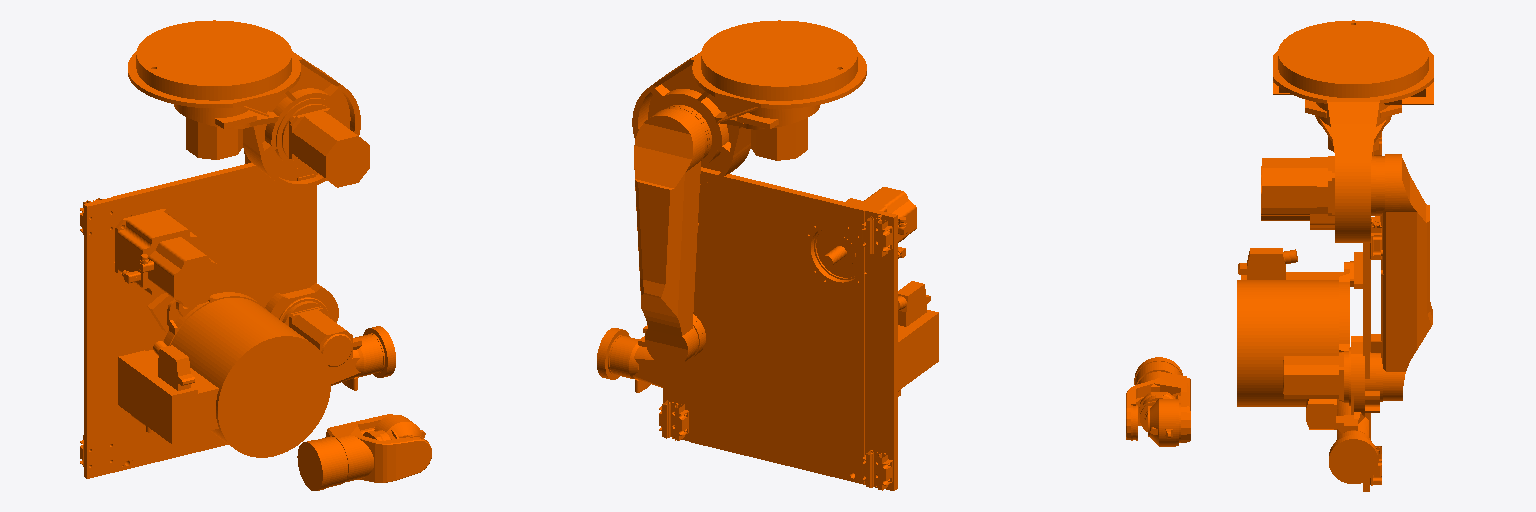
URDF robot description (kuka_kr15):
<?xml version="1.0" ?>
<!--
  URDF: KUKA KR15 — célula robotizada
  Paquete ROS 2: 15dimension_collision

  Meshes reales (unidades originales en mm → ROS 2 usa metros, scale 0.001):
    kr15_1_0.stl  →  base        bbox: 796 × 471 × 901 mm   centroid: (-25, -124, 120)
    kr15_1_1.stl  →  link_1      bbox: 735 × 529 × 490 mm   centroid: (107, -16, 70)
    kr15_1_2.stl  →  link_2      bbox: 827 × 199 × 246 mm   centroid: (314, 0, -123)
    kr15_1_3.stl  →  link_3      bbox: 374 × 592 × 298 mm   centroid: (53, -11, 69)
    kr15_1_4.stl  →  link_4      bbox: 152 × 200 × 376 mm   centroid: (0, 2, 127)
    kr15_1_5.stl  →  link_5      bbox: 148 × 203 × 127 mm   centroid: (0, 1, 2)
    kr15_1_6.stl  →  link_6      bbox: 118 × 118 × 37 mm    centroid: (0, 0, 18)

  Parámetros DH originales (C# NXOpen):
    alpha = [0,    0,     π/2,   0,     π/2,   π/2,  -π/2]
    a     = [0,    0,     300,   650,   155,   0,     0   ]  mm
    d     = [0,    0,     675,   0,     0,     600,   0   ]  mm
    theta = [0,    0,     π/2,   0,     0,     0,     0   ]  offset

  Colisión: primitivas geométricas ajustadas a los bounding boxes reales
-->
<robot name="kuka_kr15">

  <!-- ================================================================
       WORLD — frame de referencia fijo
       ================================================================ -->
  <link name="world" />

  <joint name="world_to_base" type="fixed">
    <parent link="world" />
    <child link="base_link" />
    <origin xyz="0 0 0" rpy="0 0 0" />
  </joint>


  <!-- ================================================================
       BASE LINK
       STL bbox: 796 × 471 × 901 mm  (el volumen incluye el link_1 en posición home)
       Colisión conservadora: caja 500 × 400 × 200 mm (solo la parte fija)
       ================================================================ -->
  <link name="base_link">

    <visual>
      <origin xyz="0 0 0" rpy="0 0 0" />
      <geometry>
        <mesh
                    filename="package://15dimension_collision/meshes/kr15_1_0.stl"
                    scale="0.001 0.001 0.001"
                />
      </geometry>
      <material name="kuka_orange">
        <color rgba="1.0 0.45 0.0 1.0" />
      </material>
    </visual>

    <collision>
      <origin xyz="-0.025 -0.124 0.10" rpy="0 0 0" />
      <geometry>
        <box size="0.50 0.40 0.20" />
      </geometry>
    </collision>

    <inertial>
      <mass value="50.0" />
      <origin xyz="0 0 0.10" rpy="0 0 0" />
      <inertia ixx="0.8" iyy="0.8" izz="0.6" ixy="0.0" ixz="0.0" iyz="0.0" />
    </inertial>

  </link>


  <!-- ================================================================
       JOINT 1 — Rotación Z
       d = 675 mm = 0.675 m
       ================================================================ -->
  <joint name="joint_1" type="revolute">
    <parent link="base_link" />
    <child link="link_1" />
    <origin xyz="0 0 0.675" rpy="0 0 0" />
    <axis xyz="0 0 1" />
    <limit lower="-3.14159" upper="3.14159" effort="200" velocity="1.745" />
    <dynamics damping="0.5" friction="0.1" />
  </joint>


  <!-- ================================================================
       LINK 1 — Columna giratoria
       STL bbox: 735 × 529 × 490 mm  centroid: (107, -16, 70)
       Colisión: cilindro Ø300mm × 490mm centrado en el centroide
       ================================================================ -->
  <link name="link_1">

    <visual>
      <origin xyz="0 0 0" rpy="0 0 0" />
      <geometry>
        <mesh
                    filename="package://15dimension_collision/meshes/kr15_1_1.stl"
                    scale="0.001 0.001 0.001"
                />
      </geometry>
      <material name="kuka_orange" />
    </visual>

    <collision>
      <origin xyz="0.107 -0.016 0.07" rpy="0 0 0" />
      <geometry>
        <cylinder radius="0.15" length="0.49" />
      </geometry>
    </collision>

    <inertial>
      <mass value="12.0" />
      <origin xyz="0.107 -0.016 0.07" rpy="0 0 0" />
      <inertia ixx="0.3" iyy="0.3" izz="0.1" ixy="0.0" ixz="0.0" iyz="0.0" />
    </inertial>

  </link>


  <!-- ================================================================
       JOINT 2 — Hombro (pitch)
       a = 300 mm = 0.300 m,  alpha = π/2,  theta_offset = π/2
       ================================================================ -->
  <joint name="joint_2" type="revolute">
    <parent link="link_1" />
    <child link="link_2" />
    <origin xyz="0.300 0 0" rpy="1.5708 1.5708 0" />
    <axis xyz="0 0 1" />
    <limit lower="-2.9671" upper="2.9671" effort="200" velocity="1.745" />
    <dynamics damping="0.5" friction="0.1" />
  </joint>


  <!-- ================================================================
       LINK 2 — Brazo superior (el más largo)
       STL bbox: 827 × 199 × 246 mm  centroid: (314, 0, -123)
       Colisión: cilindro Ø200mm × 827mm a lo largo del eje X
       ================================================================ -->
  <link name="link_2">

    <visual>
      <origin xyz="0 0 0" rpy="0 0 0" />
      <geometry>
        <mesh
                    filename="package://15dimension_collision/meshes/kr15_1_2.stl"
                    scale="0.001 0.001 0.001"
                />
      </geometry>
      <material name="kuka_orange" />
    </visual>

    <collision>
      <origin xyz="0.314 0 -0.123" rpy="0 1.5708 0" />
      <geometry>
        <cylinder radius="0.10" length="0.827" />
      </geometry>
    </collision>

    <inertial>
      <mass value="10.0" />
      <origin xyz="0.314 0 -0.123" rpy="0 0 0" />
      <inertia ixx="0.05" iyy="0.40" izz="0.40" ixy="0.0" ixz="0.0" iyz="0.0" />
    </inertial>

  </link>


  <!-- ================================================================
       JOINT 3 — Codo
       a = 650 mm = 0.650 m,  alpha = 0
       ================================================================ -->
  <joint name="joint_3" type="revolute">
    <parent link="link_2" />
    <child link="link_3" />
    <origin xyz="0.650 0 0" rpy="0 0 0" />
    <axis xyz="0 0 1" />
    <limit lower="-2.9671" upper="2.9671" effort="150" velocity="1.920" />
    <dynamics damping="0.5" friction="0.1" />
  </joint>


  <!-- ================================================================
       LINK 3 — Antebrazo
       STL bbox: 374 × 592 × 298 mm  centroid: (53, -11, 69)
       Colisión: caja que envuelve el antebrazo
       ================================================================ -->
  <link name="link_3">

    <visual>
      <origin xyz="0 0 0" rpy="0 0 0" />
      <geometry>
        <mesh
                    filename="package://15dimension_collision/meshes/kr15_1_3.stl"
                    scale="0.001 0.001 0.001"
                />
      </geometry>
      <material name="kuka_orange" />
    </visual>

    <collision>
      <origin xyz="0.053 -0.011 0.069" rpy="0 0 0" />
      <geometry>
        <box size="0.374 0.30 0.298" />
      </geometry>
    </collision>

    <inertial>
      <mass value="6.0" />
      <origin xyz="0.053 -0.011 0.069" rpy="0 0 0" />
      <inertia ixx="0.05" iyy="0.10" izz="0.10" ixy="0.0" ixz="0.0" iyz="0.0" />
    </inertial>

  </link>


  <!-- ================================================================
       JOINT 4 — Muñeca 1
       a = 155 mm,  d = 600 mm,  alpha = π/2
       ================================================================ -->
  <joint name="joint_4" type="revolute">
    <parent link="link_3" />
    <child link="link_4" />
    <origin xyz="0.155 0 0.600" rpy="1.5708 0 0" />
    <axis xyz="0 0 1" />
    <limit lower="-3.14159" upper="3.14159" effort="54" velocity="2.967" />
    <dynamics damping="0.3" friction="0.05" />
  </joint>


  <!-- ================================================================
       LINK 4 — Muñeca 1
       STL bbox: 152 × 200 × 376 mm  centroid: (0, 2, 127)
       Colisión: cilindro vertical Ø152mm × 376mm
       ================================================================ -->
  <link name="link_4">

    <visual>
      <origin xyz="0 0 0" rpy="0 0 0" />
      <geometry>
        <mesh
                    filename="package://15dimension_collision/meshes/kr15_1_4.stl"
                    scale="0.001 0.001 0.001"
                />
      </geometry>
      <material name="kuka_orange" />
    </visual>

    <collision>
      <origin xyz="0.0 0.002 0.127" rpy="0 0 0" />
      <geometry>
        <cylinder radius="0.076" length="0.376" />
      </geometry>
    </collision>

    <inertial>
      <mass value="3.5" />
      <origin xyz="0.0 0.002 0.127" rpy="0 0 0" />
      <inertia
                ixx="0.02"
                iyy="0.02"
                izz="0.008"
                ixy="0.0"
                ixz="0.0"
                iyz="0.0"
            />
    </inertial>

  </link>


  <!-- ================================================================
       JOINT 5 — Muñeca 2
       alpha = π/2
       ================================================================ -->
  <joint name="joint_5" type="revolute">
    <parent link="link_4" />
    <child link="link_5" />
    <origin xyz="0 0 0" rpy="1.5708 0 0" />
    <axis xyz="0 0 1" />
    <limit lower="-3.14159" upper="3.14159" effort="54" velocity="2.967" />
    <dynamics damping="0.3" friction="0.05" />
  </joint>


  <!-- ================================================================
       LINK 5 — Muñeca 2
       STL bbox: 148 × 203 × 127 mm  centroid: (0, 1, 2)
       Colisión: esfera Ø150mm (articulación casi cúbica)
       ================================================================ -->
  <link name="link_5">

    <visual>
      <origin xyz="0 0 0" rpy="0 0 0" />
      <geometry>
        <mesh
                    filename="package://15dimension_collision/meshes/kr15_1_5.stl"
                    scale="0.001 0.001 0.001"
                />
      </geometry>
      <material name="kuka_orange" />
    </visual>

    <collision>
      <origin xyz="0.0 0.001 0.002" rpy="0 0 0" />
      <geometry>
        <sphere radius="0.075" />
      </geometry>
    </collision>

    <inertial>
      <mass value="2.5" />
      <origin xyz="0.0 0.001 0.002" rpy="0 0 0" />
      <inertia
                ixx="0.008"
                iyy="0.008"
                izz="0.008"
                ixy="0.0"
                ixz="0.0"
                iyz="0.0"
            />
    </inertial>

  </link>


  <!-- ================================================================
       JOINT 6 — Flange
       alpha = -π/2
       ================================================================ -->
  <joint name="joint_6" type="revolute">
    <parent link="link_5" />
    <child link="link_6" />
    <origin xyz="0 0 0" rpy="-1.5708 0 0" />
    <axis xyz="0 0 1" />
    <limit lower="-3.14159" upper="3.14159" effort="36" velocity="3.316" />
    <dynamics damping="0.2" friction="0.02" />
  </joint>


  <!-- ================================================================
       LINK 6 — Flange (brida de herramienta)
       STL bbox: 118 × 118 × 37 mm  centroid: (0, 0, 18)
       Colisión: cilindro plano Ø118mm × 37mm
       ================================================================ -->
  <link name="link_6">

    <visual>
      <origin xyz="0 0 0" rpy="0 0 0" />
      <geometry>
        <mesh
                    filename="package://15dimension_collision/meshes/kr15_1_6.stl"
                    scale="0.001 0.001 0.001"
                />
      </geometry>
      <material name="kuka_orange" />
    </visual>

    <collision>
      <origin xyz="0.0 0.0 0.018" rpy="0 0 0" />
      <geometry>
        <cylinder radius="0.059" length="0.037" />
      </geometry>
    </collision>

    <inertial>
      <mass value="1.5" />
      <origin xyz="0.0 0.0 0.018" rpy="0 0 0" />
      <inertia
                ixx="0.003"
                iyy="0.003"
                izz="0.003"
                ixy="0.0"
                ixz="0.0"
                iyz="0.0"
            />
    </inertial>

  </link>


  <!-- ================================================================
       TCP — Tool Center Point
       140 mm por delante del flange (eje Z del link_6)
       ================================================================ -->
  <joint name="joint_tcp" type="fixed">
    <parent link="link_6" />
    <child link="tcp" />
    <origin xyz="0 0 0.140" rpy="0 0 0" />
  </joint>

  <link name="tcp" />

</robot>

--- Facts derived from the render (not from the file) ---
The picture shows the robot from 3 angles, left to right: view 1: azimuth 30°, elevation 25°; view 2: azimuth 150°, elevation 25°; view 3: azimuth 270°, elevation 25°; orthographic projection.
Model kuka_kr15 with 9 links and 8 joints (6 revolute, 2 fixed), rooted at world, posed every joint at zero.
Links seen in each view (by area): view 1: base_link, link_1, link_4, link_3, link_5; view 2: base_link, link_1, link_2, link_3; view 3: link_1, base_link, link_2, link_3, link_4, link_5.
Boxes of the visible links, box(x1,y1,x2,y2) form: base_link: box(80, 163, 330, 478); link_1: box(128, 20, 369, 188); link_4: box(297, 414, 431, 490); link_3: box(265, 282, 395, 390); link_5: box(363, 415, 425, 440); base_link: box(659, 167, 938, 490); link_1: box(632, 20, 866, 188); link_2: box(634, 108, 707, 367); link_3: box(597, 314, 705, 392); link_1: box(1262, 20, 1433, 242); base_link: box(1237, 132, 1381, 491); link_2: box(1371, 154, 1432, 401); link_3: box(1283, 336, 1379, 483); link_4: box(1126, 357, 1190, 442); link_5: box(1139, 392, 1178, 446).
Bounding box of the posed robot: 1.01 × 0.95 × 1.32 m (x, y, z).
7 mesh visuals loaded from 7 distinct referenced files (7 binary STL).
